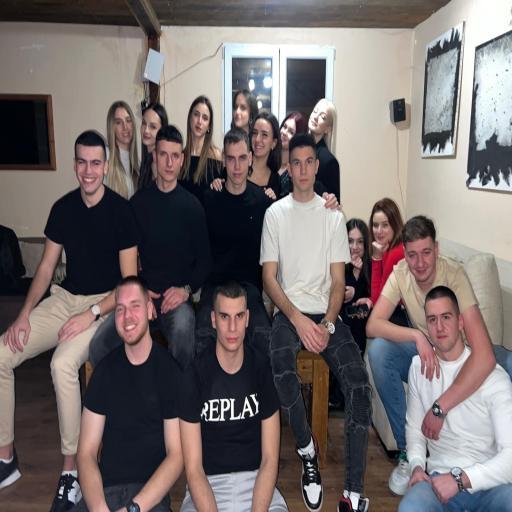marija: (141, 112, 163, 144)
masa: (190, 100, 212, 137)
